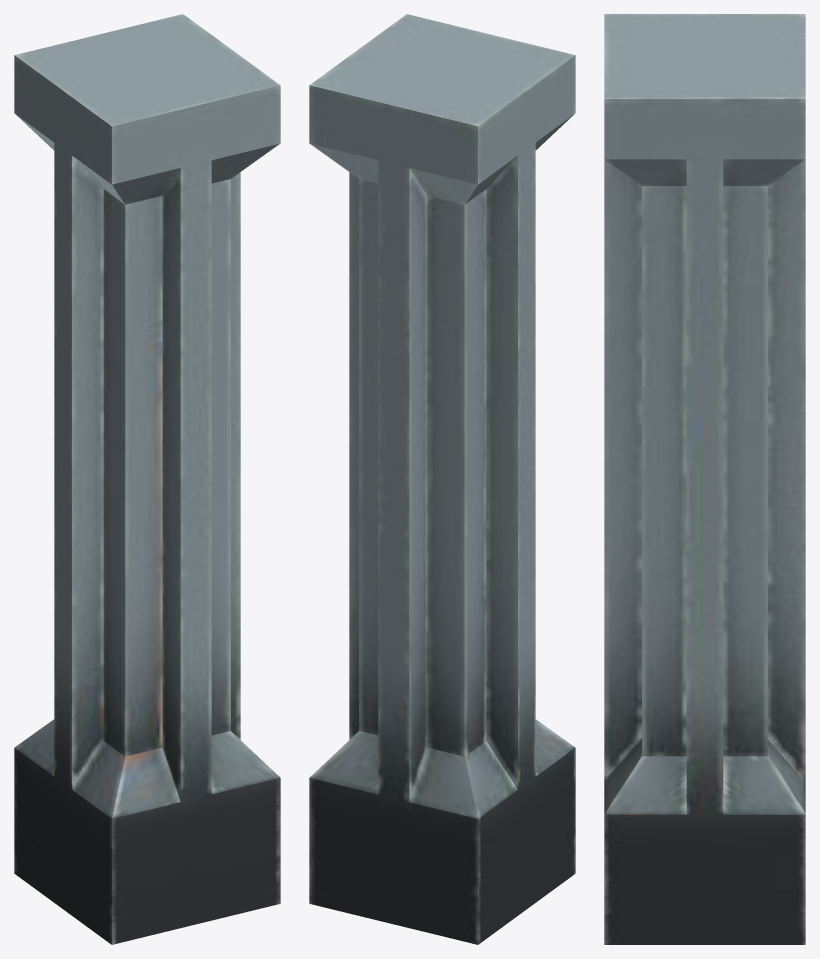
Rendered from pillar_ribbed.glb.
3 renders of one model, left to right at view 1: azimuth 30°, elevation 25°; view 2: azimuth 150°, elevation 25°; view 3: azimuth 270°, elevation 25°, orthographic. The views are drawn at different scales.
Visible parts, largest first — view 1: Post_2.001; view 2: Post_2.001; view 3: Post_2.001.
Boxes of the visible parts, bbox=[...] form: Post_2.001: bbox=[14, 14, 280, 944]; Post_2.001: bbox=[309, 14, 575, 944]; Post_2.001: bbox=[604, 14, 805, 944].
Bounding box in the file's own units: 0.69 × 3.2 × 0.69.
1 material, 1 textured.
